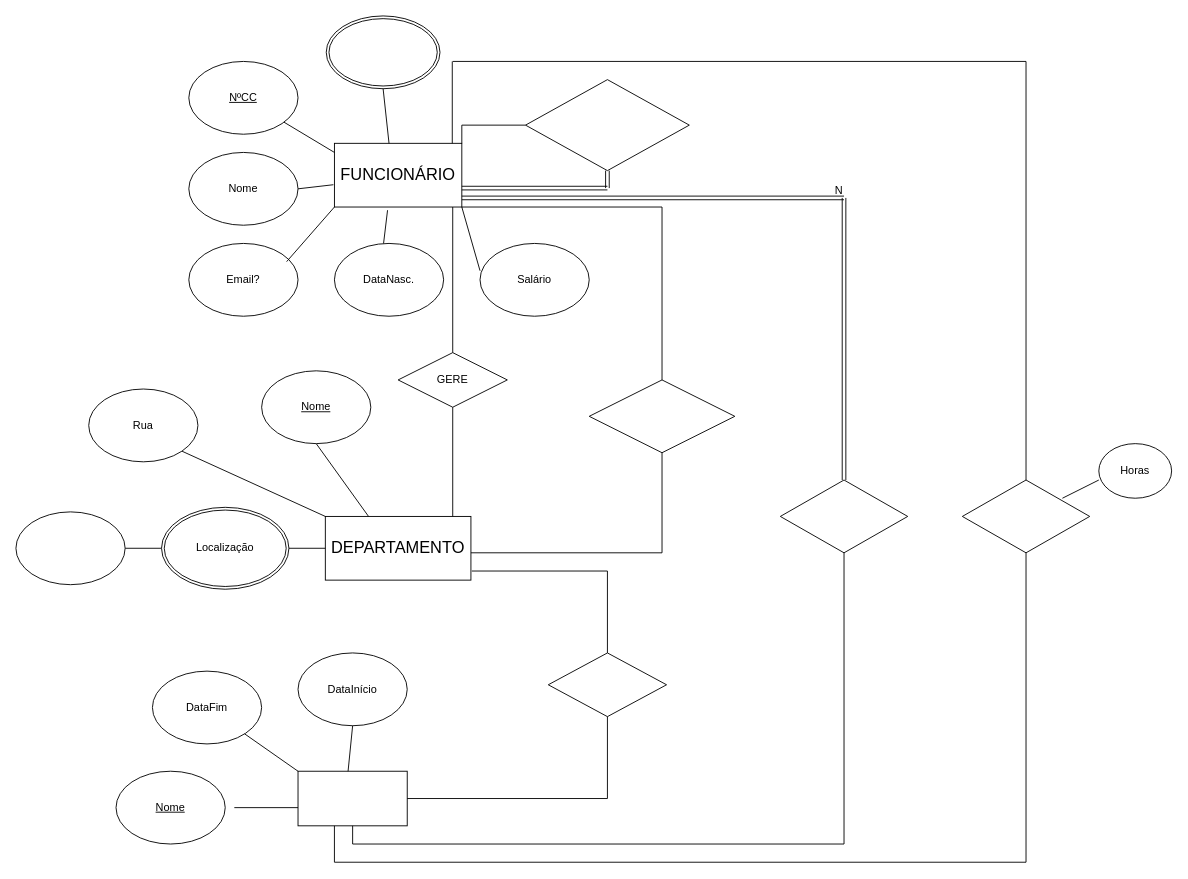
The diagram is 1188 pixels wide and 879 high, and some of its shapes have lost their labels. The box of each missing label's shape, as (x1, y1, x2, y2) in pixels:
Cidade: (15, 511, 125, 585)
CONTROLA: (547, 652, 667, 717)
DIRIGE: (779, 479, 908, 553)
HorasP roj.: (325, 15, 440, 89)
PROJECTO: (297, 770, 407, 826)
SUPERVISIONA: (525, 79, 689, 171)
TARABALHA_EM: (961, 479, 1090, 553)
TRABALHA_PARA: (588, 379, 735, 453)
